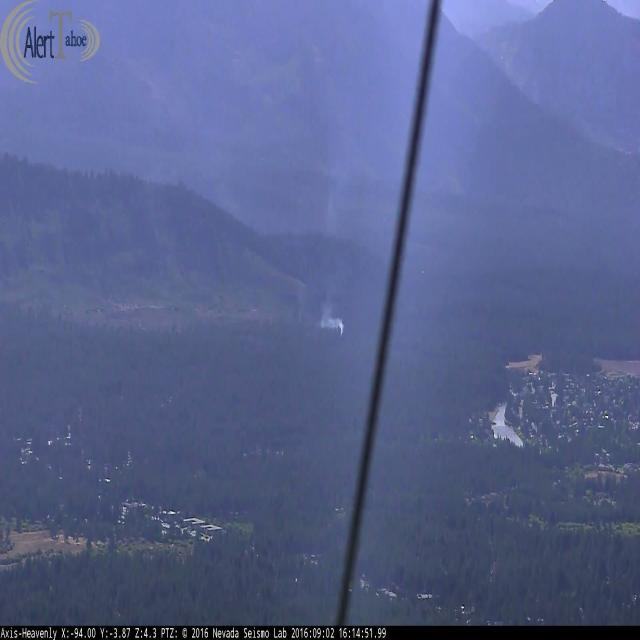smoke: (318, 311, 344, 337)
